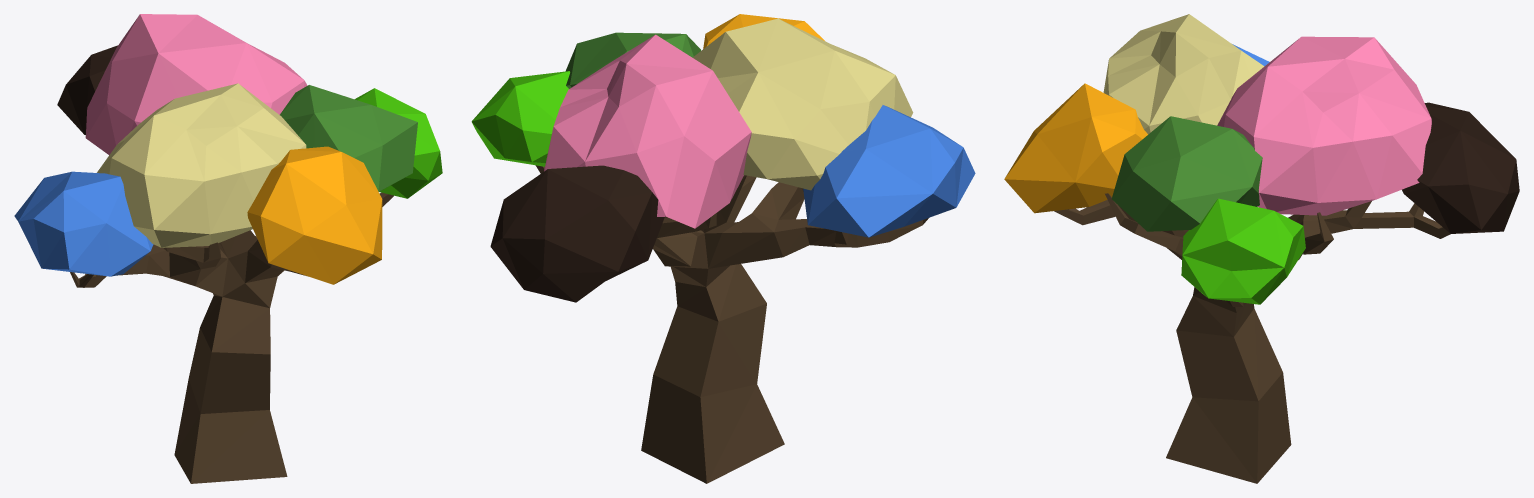
File: ArvoreGrande.fbx
3 renders of one model, left to right at view 1: azimuth 30°, elevation 25°; view 2: azimuth 150°, elevation 25°; view 3: azimuth 270°, elevation 25°, orthographic. The views are drawn at different scales.
Visible parts, largest first — view 1: Icosphere.053; view 2: Icosphere.053; view 3: Icosphere.053.
Boxes of the visible parts, bbox=[...] form: Icosphere.053: bbox=[14, 14, 442, 483]; Icosphere.053: bbox=[471, 14, 975, 483]; Icosphere.053: bbox=[1004, 14, 1519, 483].
Bounding box in the file's own units: 915 × 835 × 949.
